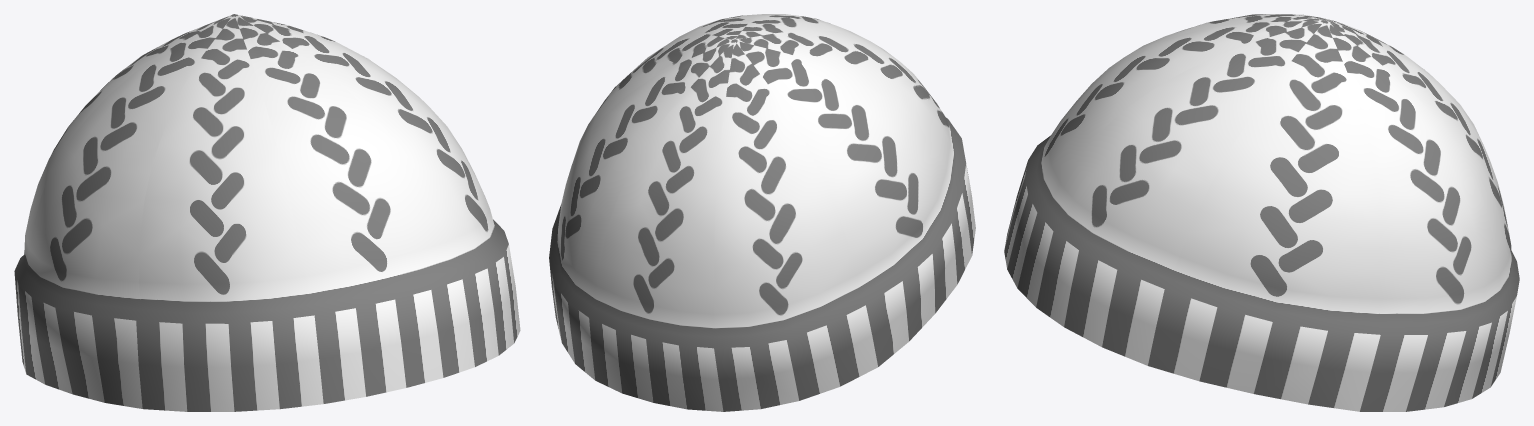
Rendered from hat_2.glb.
The picture shows the model from 3 angles, left to right: view 1: azimuth 30°, elevation 25°; view 2: azimuth 150°, elevation 25°; view 3: azimuth 270°, elevation 25°; orthographic projection. The views are drawn at different scales.
Visible parts, largest first — view 1: Mesh_3.002; view 2: Mesh_3.002; view 3: Mesh_3.002.
Part boxes in pixels (left/top/right/bottom): Mesh_3.002: left=14, top=14, right=520, bottom=411; Mesh_3.002: left=549, top=14, right=975, bottom=411; Mesh_3.002: left=1004, top=14, right=1519, bottom=411.
Bounding box in the file's own units: 59.07 × 49.08 × 68.43.
1 material, 1 textured.
